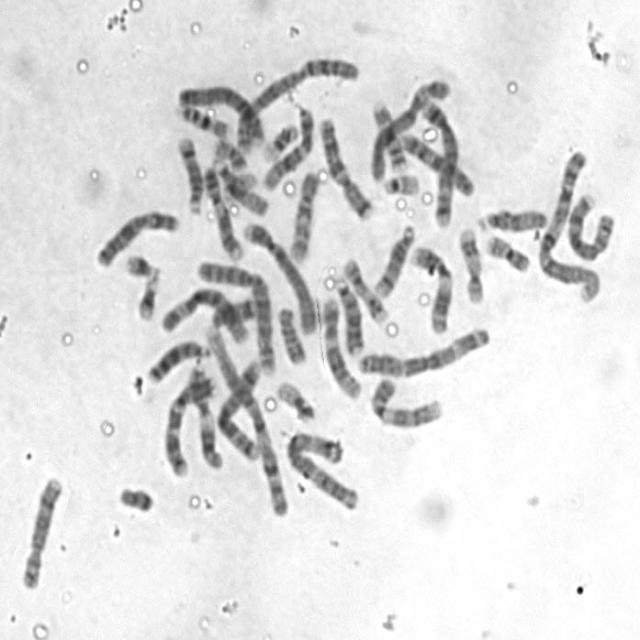A1: (198, 313, 292, 521), (532, 142, 603, 305)
A2: (230, 47, 362, 151), (191, 251, 280, 377)
A3: (352, 317, 494, 379), (279, 422, 363, 512)
B4: (236, 212, 320, 338), (171, 75, 267, 151)
B5: (416, 91, 461, 228), (213, 352, 265, 462)
C10: (393, 126, 477, 200), (284, 162, 323, 263)
C11: (405, 237, 455, 336), (184, 358, 226, 471)
C12: (257, 97, 317, 193), (315, 290, 364, 401)
C6: (364, 68, 452, 183), (156, 278, 254, 344)
C7: (156, 364, 220, 478), (313, 108, 377, 221)
C8: (14, 468, 66, 591), (560, 185, 618, 263)
C9: (365, 369, 446, 431), (198, 158, 246, 261)
D13: (142, 330, 214, 384), (329, 270, 365, 357)
D14: (368, 216, 419, 298), (171, 129, 205, 216)
D15: (206, 151, 270, 217), (471, 200, 551, 233)
E16: (366, 94, 409, 174), (170, 95, 233, 139)
E17: (337, 249, 391, 325), (454, 219, 486, 306)
E18: (271, 298, 308, 366), (205, 291, 259, 330)
F19: (272, 372, 318, 423), (217, 164, 258, 205)
F20: (479, 225, 533, 274), (208, 131, 249, 172)
G21: (131, 268, 162, 322), (120, 244, 162, 281)
G22: (217, 164, 258, 205), (378, 165, 422, 197)
X: (89, 200, 182, 270)
Y: (112, 477, 157, 514)
